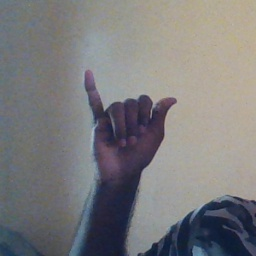J: (82, 71, 179, 176)
